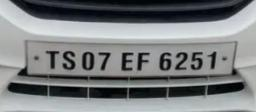0: (80, 49, 96, 73)
1: (205, 48, 218, 73)
2: (174, 49, 189, 73)
5: (190, 49, 205, 73)
6: (157, 49, 173, 73)
7: (97, 50, 112, 72)
E: (120, 50, 135, 73)
F: (135, 50, 151, 72)
S: (61, 48, 78, 72)
T: (45, 49, 61, 71)
